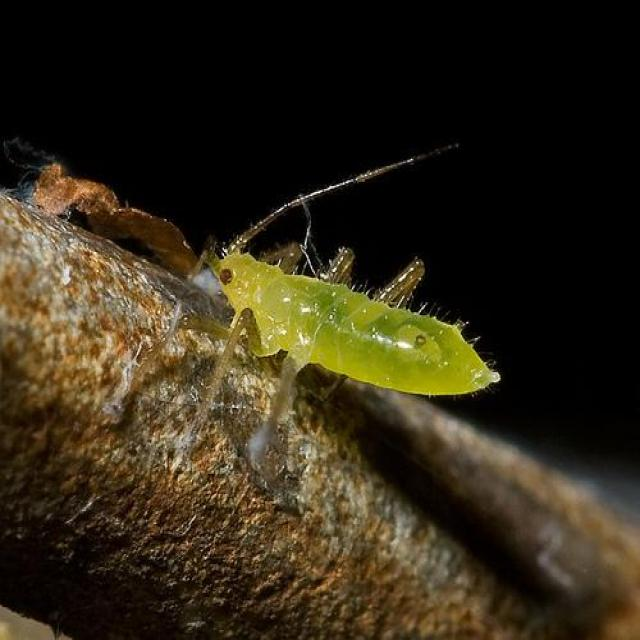Aphids: (160, 173, 517, 439)
